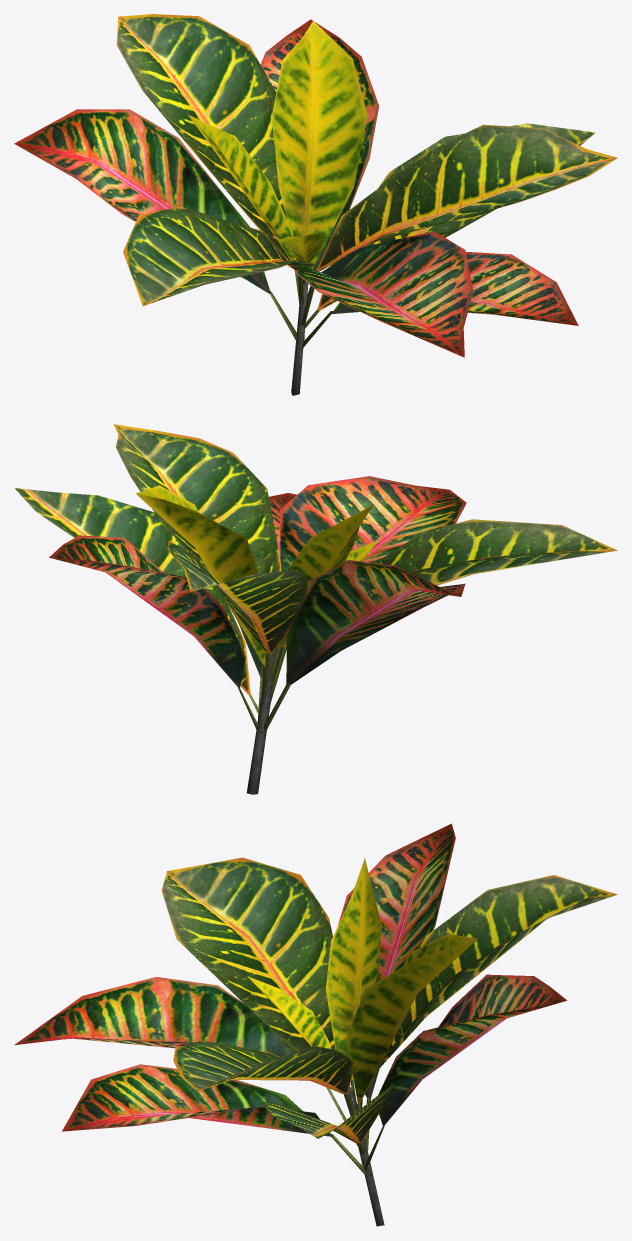
The model's file is Croton_B_m.FBX.
The picture shows the model from 3 angles, top to bottom: view 1: azimuth 30°, elevation 25°; view 2: azimuth 150°, elevation 25°; view 3: azimuth 270°, elevation 25°; orthographic projection.
Visible parts, largest first — view 1: Object2617; view 2: Object2617; view 3: Object2617.
Boxes of the visible parts, x1,y1,x2,y2 form: Object2617: [14, 14, 617, 395]; Object2617: [14, 424, 617, 794]; Object2617: [14, 823, 617, 1226].
Bounding box in the file's own units: 87.77 × 50.85 × 87.12.
